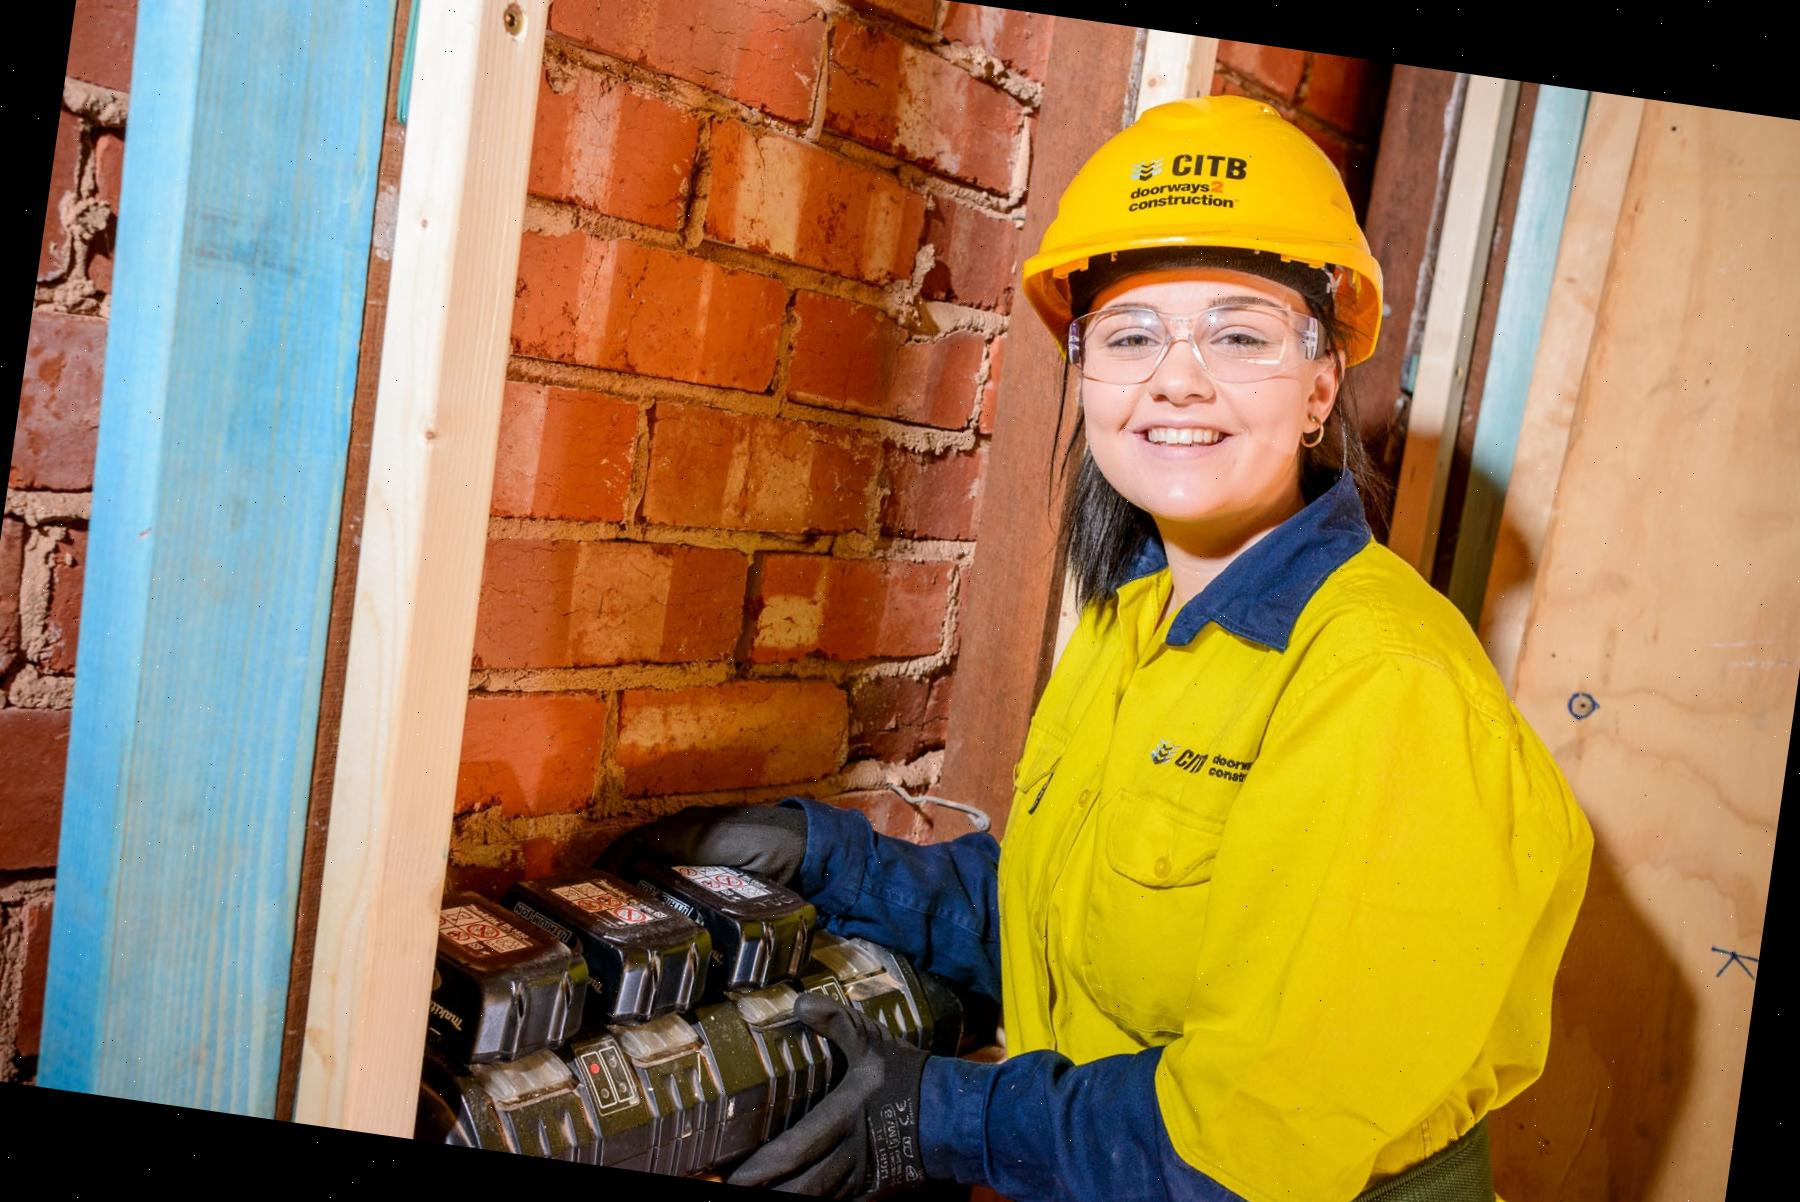helmet: (959, 546, 1616, 1202), (1014, 68, 1416, 369)
